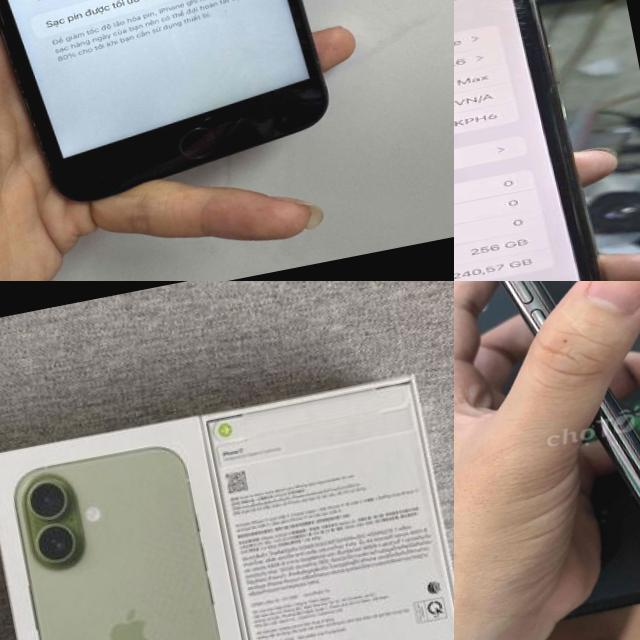gen_11: (592, 390, 640, 506), (501, 281, 564, 334)
gen_17: (0, 425, 264, 640)
gen_7_8: (0, 0, 348, 217)
gen_x_xs: (454, 0, 600, 281)
scratch: (11, 62, 54, 166), (312, 46, 332, 94)
